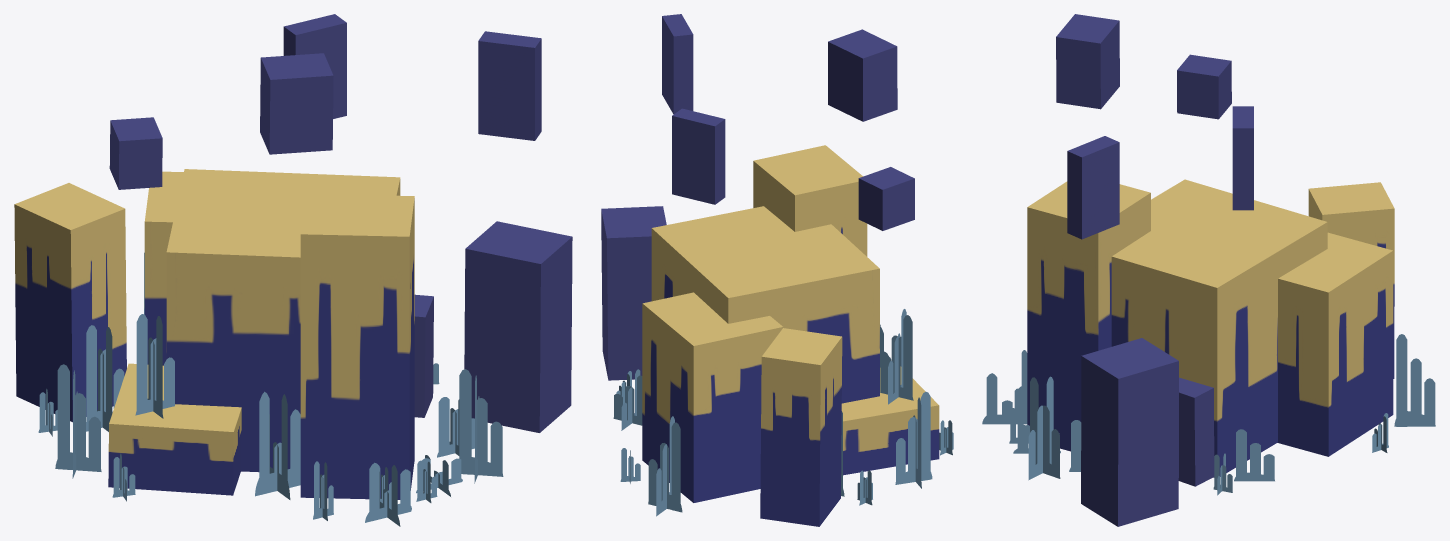
Rendered from rock_square_2.glb.
The picture shows the model from 3 angles, left to right: view 1: azimuth 30°, elevation 25°; view 2: azimuth 150°, elevation 25°; view 3: azimuth 270°, elevation 25°; orthographic projection. The views are drawn at different scales.
Parts seen in each view (by area): view 1: Cube.015; view 2: Cube.015; view 3: Cube.015.
Boxes of the visible parts, x1=… form: Cube.015: x1=14, y1=14, x2=572, y2=526; Cube.015: x1=601, y1=14, x2=953, y2=526; Cube.015: x1=982, y1=14, x2=1435, y2=526.
Size of the model in its own units: 9.52 by 8.68 by 9.45.
Materials: 4 (1 with a texture image).
